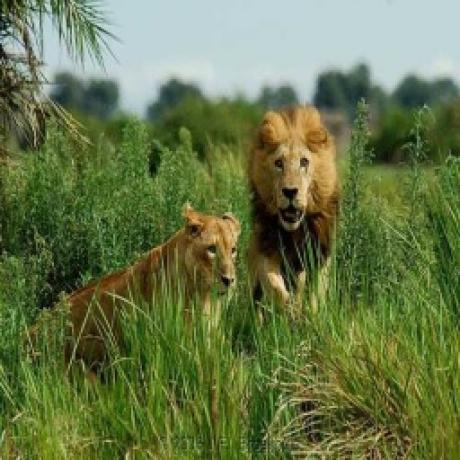Lion: (59, 202, 240, 344), (248, 98, 343, 306)
